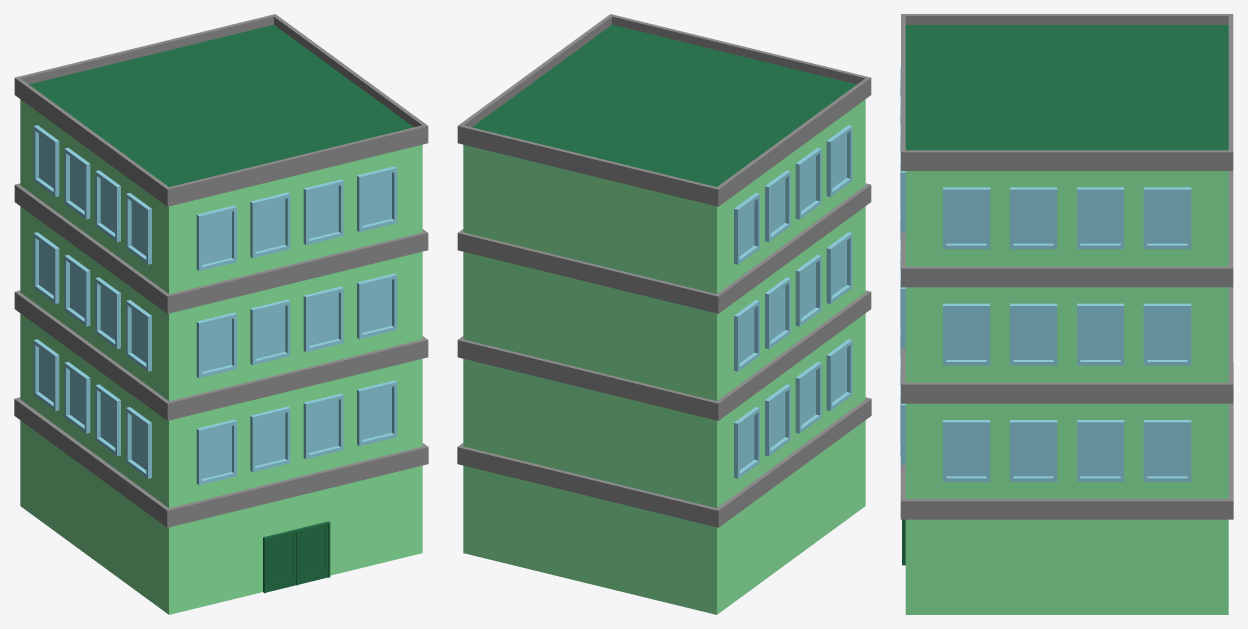
Rendered from Building 1.FBX.
The picture shows the model from 3 angles, left to right: view 1: azimuth 30°, elevation 25°; view 2: azimuth 150°, elevation 25°; view 3: azimuth 270°, elevation 25°; orthographic projection. The views are drawn at different scales.
Visible parts, largest first — view 1: 3rd story001, Base Level, 1 Story, 3rd story, FixedWindow008, FixedWindow017, FixedWindow019, FixedWindow029, FixedWindow031, FixedWindow007, FixedWindow006, FixedWindow005 (+18 smaller); view 2: 3rd story001, Base Level, 1 Story, 3rd story, FixedWindow022, FixedWindow010, FixedWindow009, FixedWindow021, FixedWindow033, FixedWindow034, FixedWindow011, FixedWindow012 (+4 smaller); view 3: 3rd story001, Base Level, 3rd story, 1 Story, FixedWindow025, FixedWindow037, FixedWindow013, FixedWindow026, FixedWindow027, FixedWindow028, FixedWindow038, FixedWindow039 (+4 smaller).
Part boxes in pixels (left/top/right/bottom): 3rd story001: left=14, top=14, right=428, bottom=293; Base Level: left=14, top=397, right=428, bottom=614; 1 Story: left=14, top=290, right=428, bottom=508; 3rd story: left=14, top=183, right=428, bottom=400; FixedWindow008: left=196, top=419, right=236, bottom=485; FixedWindow017: left=357, top=273, right=397, bottom=339; FixedWindow019: left=250, top=299, right=290, bottom=365; FixedWindow029: left=357, top=166, right=397, bottom=232; FixedWindow031: left=250, top=192, right=290, bottom=258; FixedWindow007: left=250, top=406, right=290, bottom=472; FixedWindow006: left=303, top=393, right=343, bottom=459; FixedWindow005: left=357, top=380, right=397, bottom=446; 3rd story001: left=457, top=14, right=871, bottom=293; Base Level: left=457, top=397, right=871, bottom=614; 1 Story: left=457, top=290, right=871, bottom=508; 3rd story: left=457, top=183, right=871, bottom=400; FixedWindow022: left=795, top=254, right=821, bottom=326; FixedWindow010: left=795, top=361, right=821, bottom=433; FixedWindow009: left=826, top=339, right=852, bottom=410; FixedWindow021: left=826, top=232, right=852, bottom=303; FixedWindow033: left=826, top=125, right=852, bottom=196; FixedWindow034: left=795, top=147, right=821, bottom=219; FixedWindow011: left=765, top=384, right=790, bottom=456; FixedWindow012: left=734, top=407, right=759, bottom=478; 3rd story001: left=901, top=14, right=1233, bottom=266; Base Level: left=900, top=363, right=1233, bottom=614; 3rd story: left=901, top=171, right=1233, bottom=382; 1 Story: left=901, top=287, right=1233, bottom=498; FixedWindow025: left=1143, top=303, right=1191, bottom=365; FixedWindow037: left=1143, top=187, right=1191, bottom=249; FixedWindow013: left=1143, top=420, right=1191, bottom=481; FixedWindow026: left=1077, top=303, right=1124, bottom=365; FixedWindow027: left=1010, top=303, right=1057, bottom=365; FixedWindow028: left=943, top=303, right=990, bottom=365; FixedWindow038: left=1077, top=187, right=1124, bottom=249; FixedWindow039: left=1010, top=187, right=1057, bottom=249.
Bounding box in the file's own units: 366 × 572 × 371.
